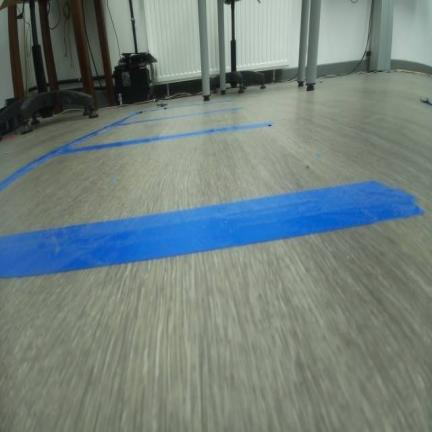place: (0, 119, 422, 278), (50, 107, 271, 153), (109, 98, 244, 126)
